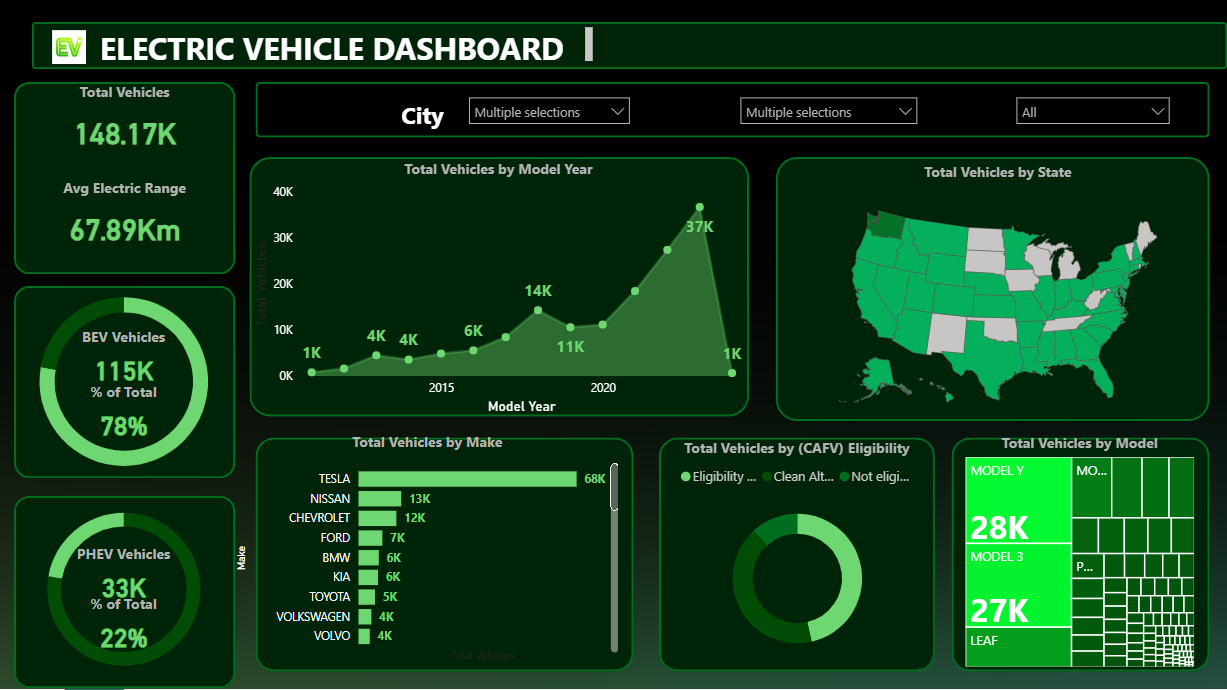

The dashboard page shown, as its layout file describes it:
{"tool":"powerbi","page":{"name":"Page 1","canvas":[1280,720],"ordinal":0},"visuals":[{"type":"shape","box":[34,24.6,1245.4,49.1],"z":0},{"type":"textbox","box":[100.2,24.6,523.5,49.1],"z":1000},{"type":"shape","box":[15.1,86.9,230.6,200.3],"z":2000},{"type":"card","title":"Total Vehicles","fields":{"Values":["Electric_Vehicle_Population_Data.Total Vehicles"]},"box":[15.1,86.9,230.6,83.2],"z":3000},{"type":"card","title":"Avg Electric Range","fields":{"Values":["Electric_Vehicle_Population_Data.Avg range"]},"box":[15.1,187.1,230.6,83.2],"z":4000},{"type":"shape","box":[15.1,300.5,230.6,200.3],"z":5000},{"type":"shape","box":[15.1,519.7,230.6,200.3],"z":6000},{"type":"donutChart","fields":{"Category":["Electric_Vehicle_Population_Data.Electric Vehicle Type"],"Y":["Electric_Vehicle_Population_Data.Total Vehicles"]},"box":[0,284.5,259.5,229.8],"z":7000},{"type":"card","title":"BEV Vehicles","fields":{"Values":["Electric_Vehicle_Population_Data.BEV Vehicle"]},"box":[70.3,342.3,118.8,68.8],"z":8000},{"type":"card","title":"% of Total","fields":{"Values":["Electric_Vehicle_Population_Data.% of BEV"]},"box":[70.3,400.1,118.8,68.8],"z":9000},{"type":"donutChart","fields":{"Category":["Electric_Vehicle_Population_Data.Electric Vehicle Type"],"Y":["Electric_Vehicle_Population_Data.Total Vehicles"]},"box":[0,511.1,259.5,209.4],"z":10000},{"type":"card","title":"PHEV Vehicles","fields":{"Values":["Electric_Vehicle_Population_Data.PHEV Vehicle"]},"box":[70.3,568.9,118.8,68.8],"z":11000},{"type":"card","title":"% of Total","fields":{"Values":["Electric_Vehicle_Population_Data.% of PHEV"]},"box":[70.3,620.5,118.8,68.8],"z":12000},{"type":"shape","box":[267.3,87.5,994.1,57.8],"z":13000},{"type":"shape","box":[261,165.7,520.5,270.4],"z":14000},{"type":"areaChart","fields":{"Category":["Electric_Vehicle_Population_Data.Model Year"],"Y":["Electric_Vehicle_Population_Data.Total Vehicles"]},"box":[259.5,170.4,522,270.4],"z":15000},{"type":"shape","box":[809.6,165.7,451.7,275.1],"z":16000},{"type":"shape","box":[267.3,458,393.9,243.8],"z":17000},{"type":"barChart","fields":{"Category":["Electric_Vehicle_Population_Data.Make"],"Y":["Electric_Vehicle_Population_Data.Total Vehicles"]},"box":[259.5,458,407.9,243.8],"z":18000},{"type":"shape","box":[687.7,458,287.6,243.8],"z":19000},{"type":"donutChart","title":"Total Vehicles by (CAFV) Eligibility","fields":{"Category":["Electric_Vehicle_Population_Data.Clean Alternative Fuel Vehicle (CAFV) Eligibility"],"Y":["Electric_Vehicle_Population_Data.Total Vehicles"]},"box":[695.5,458,272,243.8],"z":20000},{"type":"shape","box":[992.5,458,268.8,243.8],"z":21000},{"type":"treemap","fields":{"Group":["Electric_Vehicle_Population_Data.Model"],"Values":["Electric_Vehicle_Population_Data.Total Vehicles"]},"box":[1001.9,453.3,248.5,248.5],"z":22000},{"type":"slicer","fields":{"Values":["Electric_Vehicle_Population_Data.City"]},"box":[480,94.5,187.1,69.9],"z":22001},{"type":"slicer","fields":{"Values":["Electric_Vehicle_Population_Data.Electric Utility"]},"box":[763.5,94.5,204.1,79.4],"z":22002},{"type":"slicer","fields":{"Values":["Electric_Vehicle_Population_Data.Electric Vehicle Type"]},"box":[1050.7,94.5,179.5,88.8],"z":22003},{"type":"image","box":[45.4,28.3,54.8,45.4],"z":22004},{"type":"textbox","box":[413.9,100.2,66.1,45.4],"z":22005},{"type":"scatterChart","fields":{"Y":["Sum(Electric_Vehicle_Population_Data.Model Year)"],"X":["Electric_Vehicle_Population_Data.Make"],"Series":["Electric_Vehicle_Population_Data.State"]},"box":[808.8,166.3,451.7,275.9],"z":22006}]}

Visuals, with their boxes in screenshot pixels (x1, y1, x2, y2), scaled from the page's 1280x720 canvas onto the 1227x690 screenshot:
shape: 33,24,1226,71
textbox: 96,24,598,71
shape: 14,83,236,275
"Total Vehicles" card: 14,83,236,163
"Avg Electric Range" card: 14,179,236,259
shape: 14,288,236,480
shape: 14,498,236,689
donutChart - Electric_Vehicle_Population_Data.Electric Vehicle Type x Electric_Vehicle_Population_Data.Total Vehicles: 0,273,249,493
"BEV Vehicles" card: 67,328,181,394
"% of Total" card: 67,383,181,449
donutChart - Electric_Vehicle_Population_Data.Electric Vehicle Type x Electric_Vehicle_Population_Data.Total Vehicles: 0,490,249,689
"PHEV Vehicles" card: 67,545,181,611
"% of Total" card: 67,595,181,661
shape: 256,84,1209,139
shape: 250,159,749,418
areaChart - Electric_Vehicle_Population_Data.Model Year x Electric_Vehicle_Population_Data.Total Vehicles: 249,163,749,422
shape: 776,159,1209,422
shape: 256,439,634,673
barChart - Electric_Vehicle_Population_Data.Make x Electric_Vehicle_Population_Data.Total Vehicles: 249,439,640,673
shape: 659,439,935,673
"Total Vehicles by (CAFV) Eligibility" donutChart: 667,439,927,673
shape: 951,439,1209,673
treemap - Electric_Vehicle_Population_Data.Model x Electric_Vehicle_Population_Data.Total Vehicles: 960,434,1199,673
slicer - Electric_Vehicle_Population_Data.City: 460,91,639,158
slicer - Electric_Vehicle_Population_Data.Electric Utility: 732,91,928,167
slicer - Electric_Vehicle_Population_Data.Electric Vehicle Type: 1007,91,1179,176
image: 44,27,96,71
textbox: 397,96,460,140
scatterChart - Sum(Electric_Vehicle_Population_Data.Model Year) x Electric_Vehicle_Population_Data.Make: 775,159,1208,424
